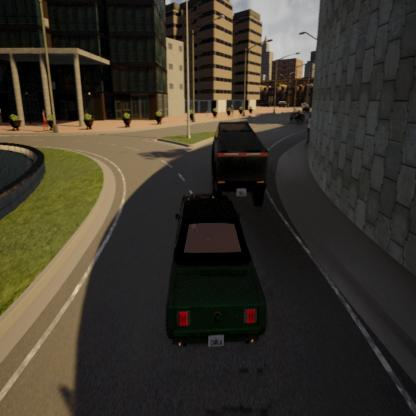Cars: (157, 159, 272, 366), (190, 91, 283, 208), (282, 95, 318, 133)
Pedestrian: (32, 96, 57, 142)
